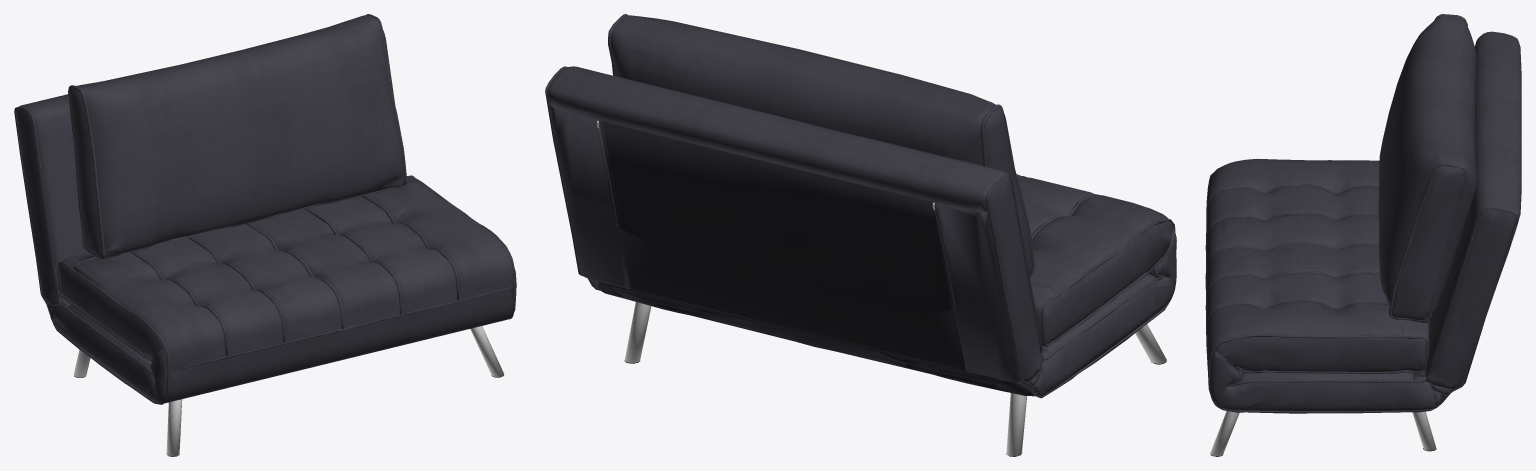
The picture shows the model from 3 angles, left to right: view 1: azimuth 30°, elevation 25°; view 2: azimuth 150°, elevation 25°; view 3: azimuth 270°, elevation 25°; orthographic projection. The views are drawn at different scales.
Visible parts, largest first — view 1: B07R3T74J7; view 2: B07R3T74J7; view 3: B07R3T74J7.
Boxes of the visible parts, x1,y1,x2,y2 form: B07R3T74J7: [14, 14, 516, 456]; B07R3T74J7: [545, 14, 1176, 456]; B07R3T74J7: [1205, 14, 1521, 456].
Size of the model in its own units: 1.22 by 0.9099 by 0.9088.
1 material, 1 textured.
